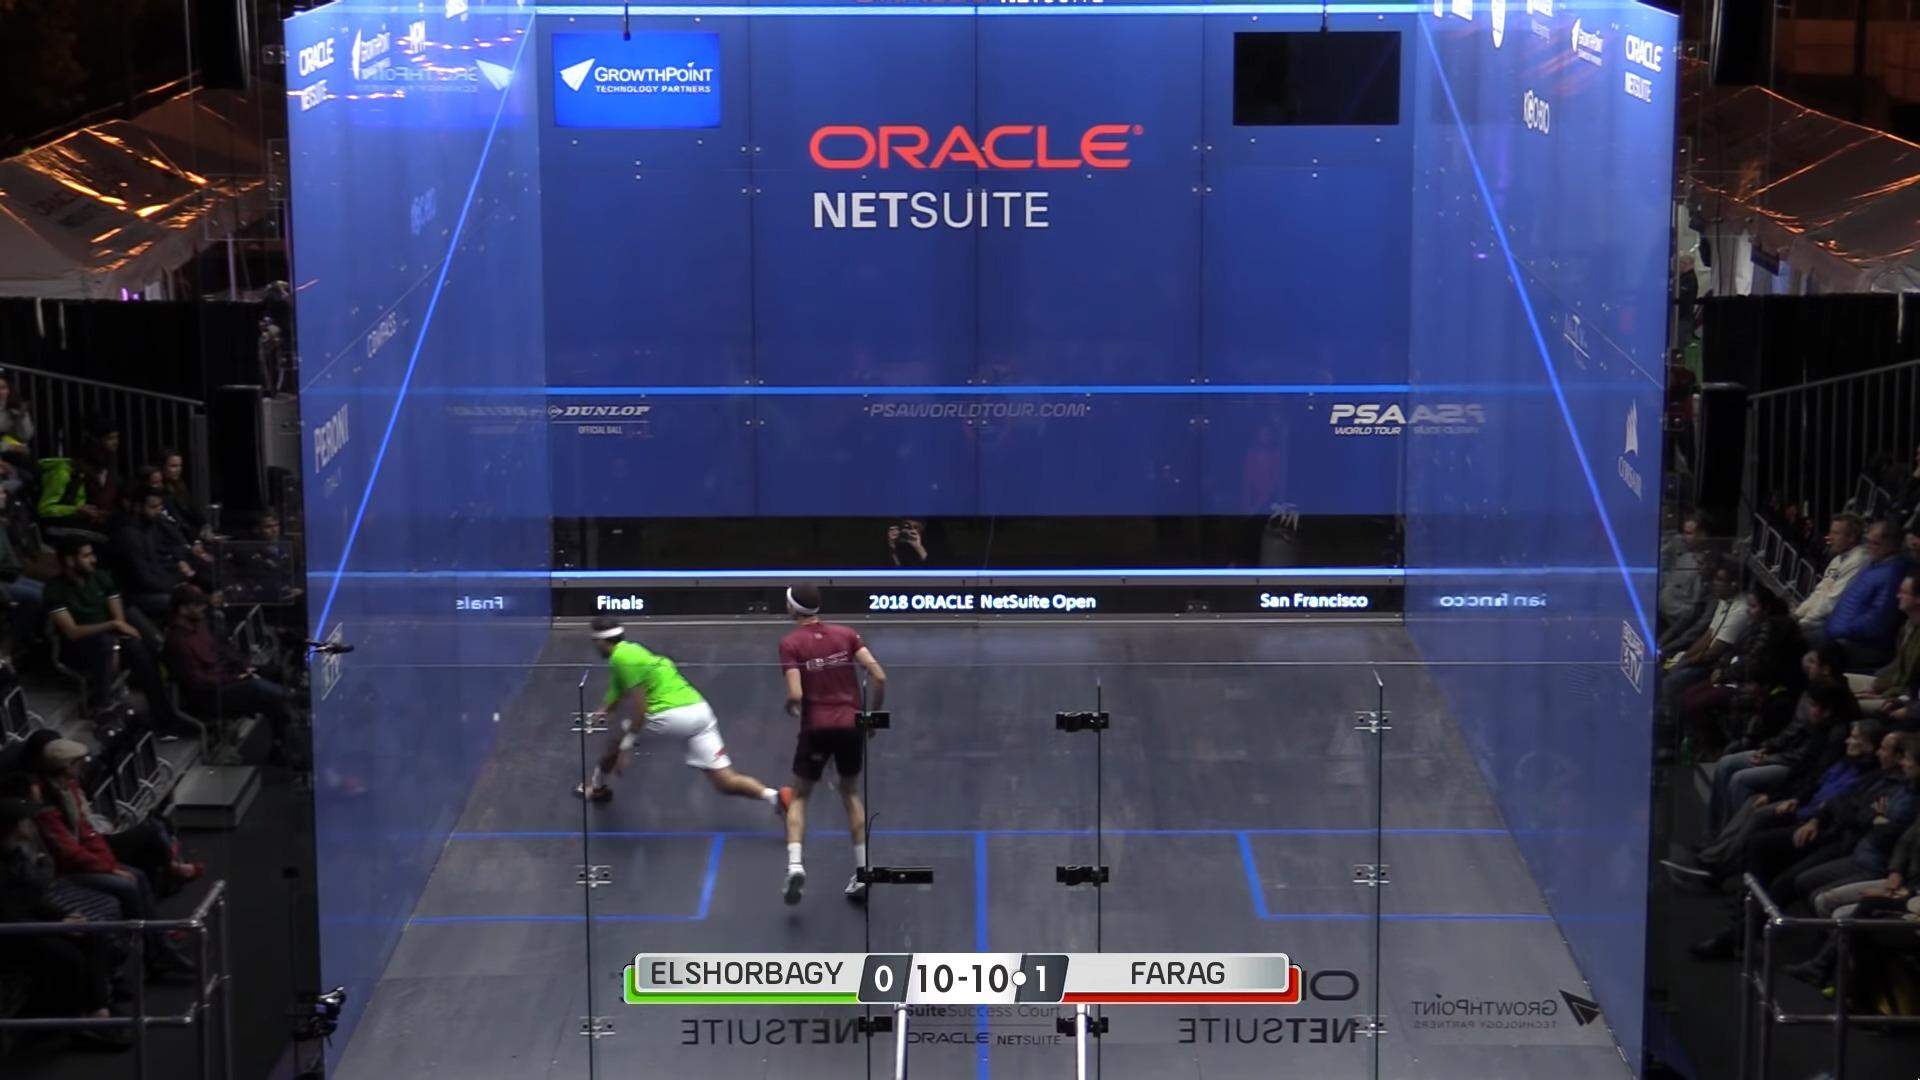Squash-Ball: (487, 711, 508, 732)
